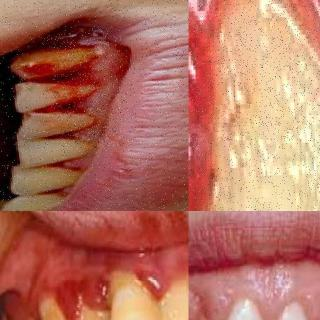Gum Swelling: (188, 274, 320, 320), (48, 260, 123, 317), (138, 248, 188, 305)
calculus: (41, 291, 75, 320), (70, 304, 108, 320)
maligned: (17, 110, 92, 140), (220, 296, 270, 320), (188, 307, 223, 320), (280, 298, 290, 314)
